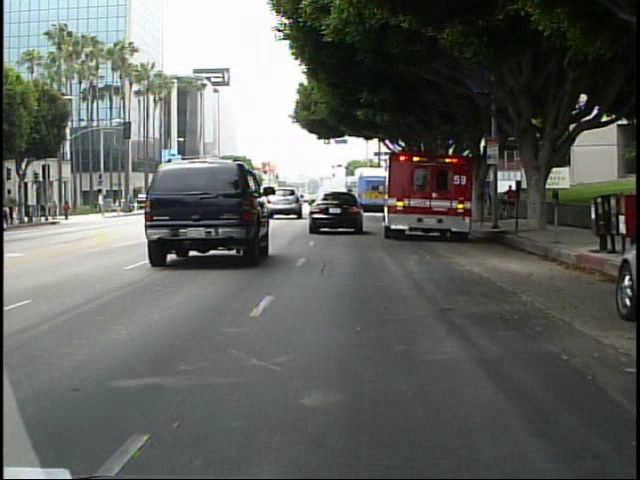person: (504, 182, 519, 223), (61, 197, 74, 222), (49, 197, 61, 221)
